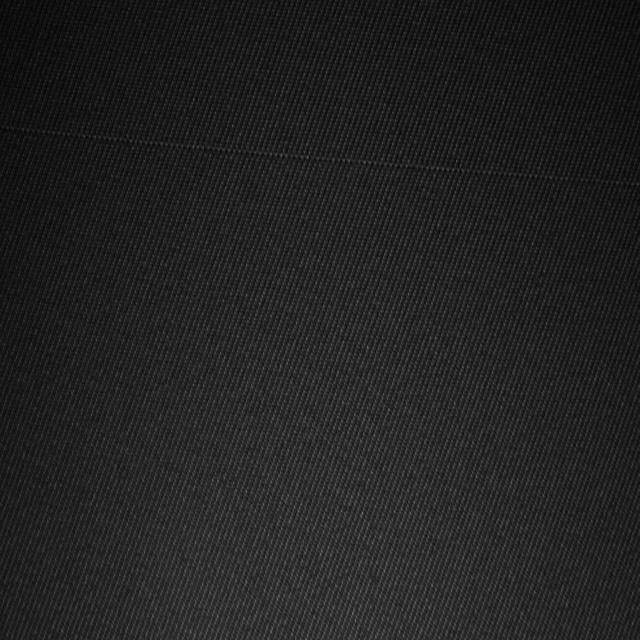stains: (5, 42, 640, 323)
